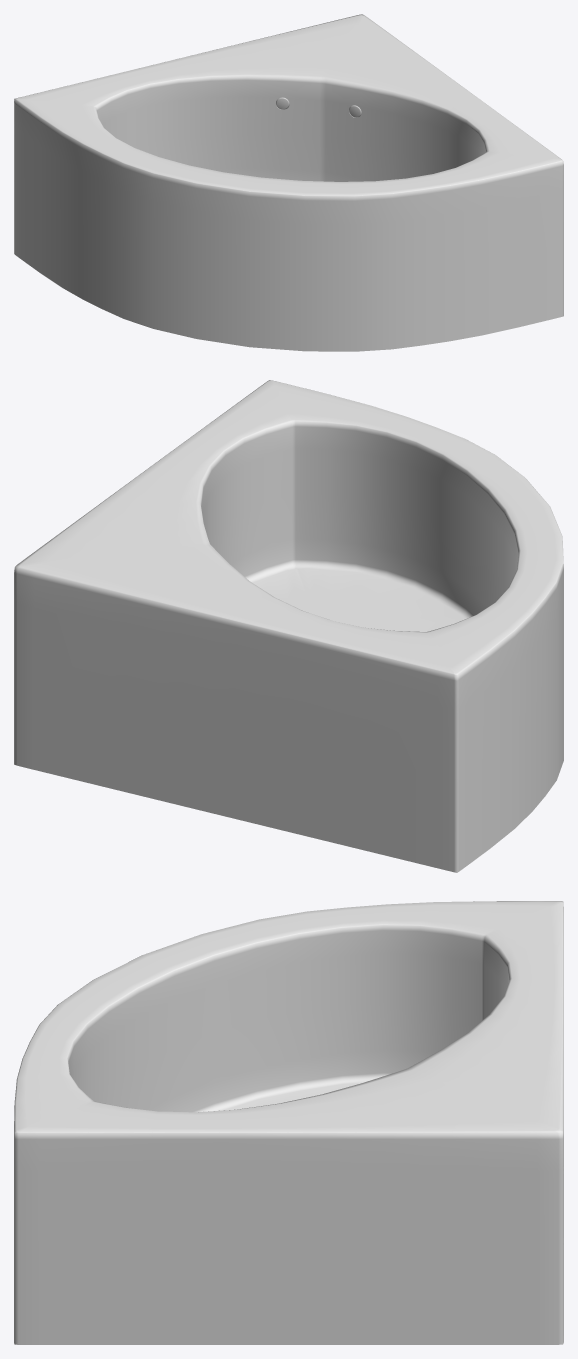
Rendered from BathTub06.fbx.
The picture shows the model from 3 angles, top to bottom: view 1: azimuth 30°, elevation 25°; view 2: azimuth 150°, elevation 25°; view 3: azimuth 270°, elevation 25°; orthographic projection. The views are drawn at different scales.
Visible parts, largest first — view 1: Bathtub06; view 2: Bathtub06; view 3: Bathtub06.
Boxes of the visible parts, x1,y1,x2,y2 form: Bathtub06: (14,14,563,351); Bathtub06: (14,380,563,872); Bathtub06: (14,901,563,1344).
Bounding box in the file's own units: 120 × 51.14 × 120.
